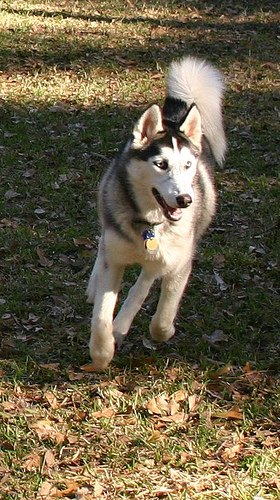dog: (81, 58, 232, 366)
